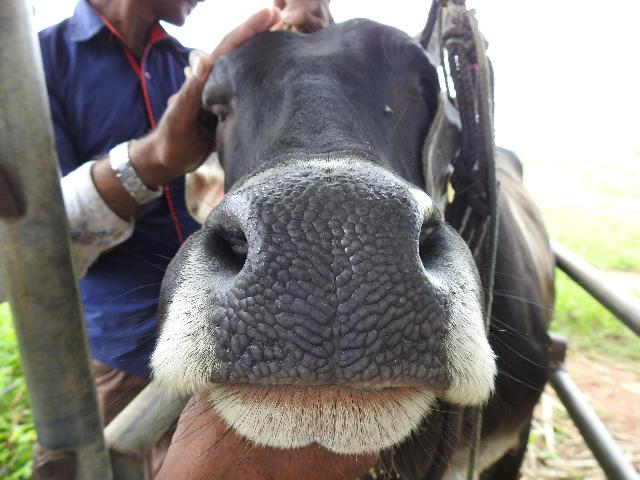Muzzle: (233, 194, 441, 390)
